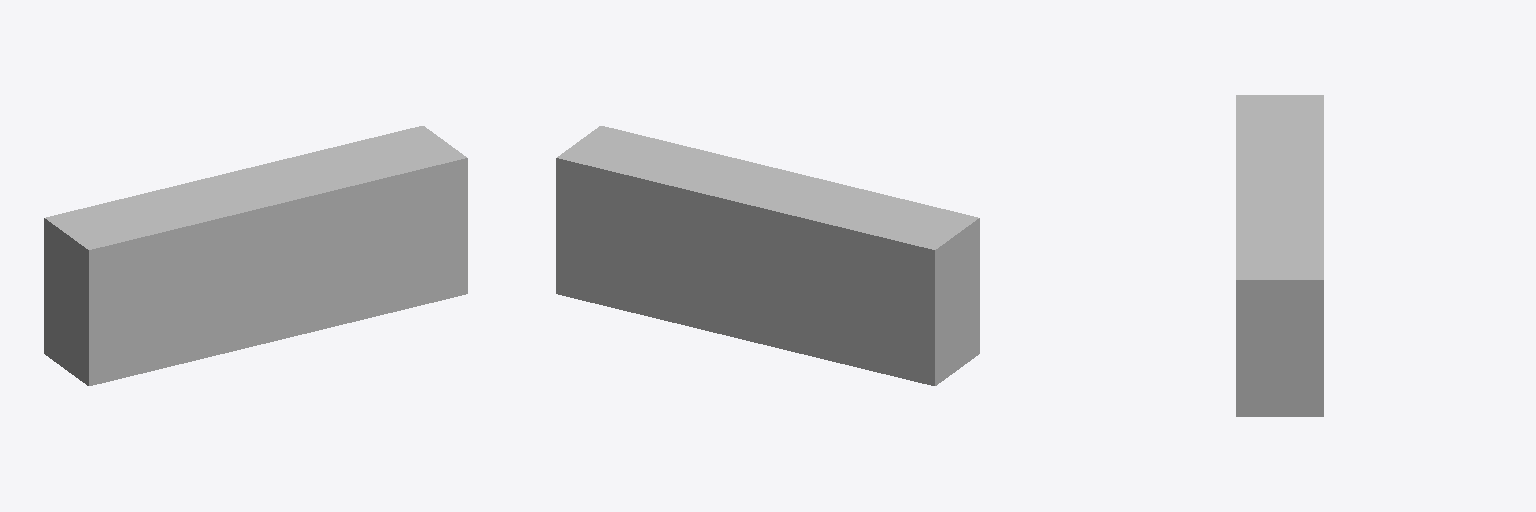
The model's file is mine.obj.
3 renders of one model, left to right at view 1: azimuth 30°, elevation 25°; view 2: azimuth 150°, elevation 25°; view 3: azimuth 270°, elevation 25°, orthographic.
Parts seen in each view (by area): view 1: cube; view 2: cube; view 3: cube.
Part boxes in pixels (x1,y1,x2,y2): cube: (44,126,467,385); cube: (556,126,979,385); cube: (1236,95,1323,416).
Size of the model in its own units: 8 by 2.75 by 1.62.